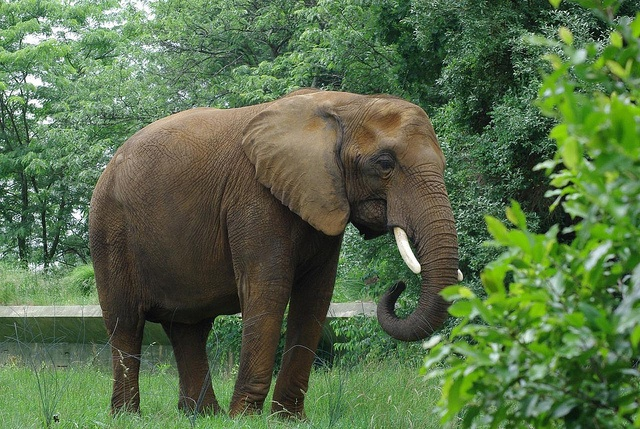elephant: (86, 89, 464, 423)
